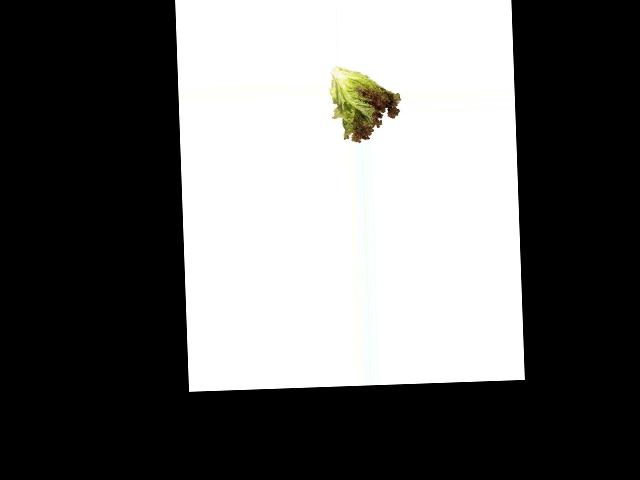lettuce: (330, 65, 401, 144)
